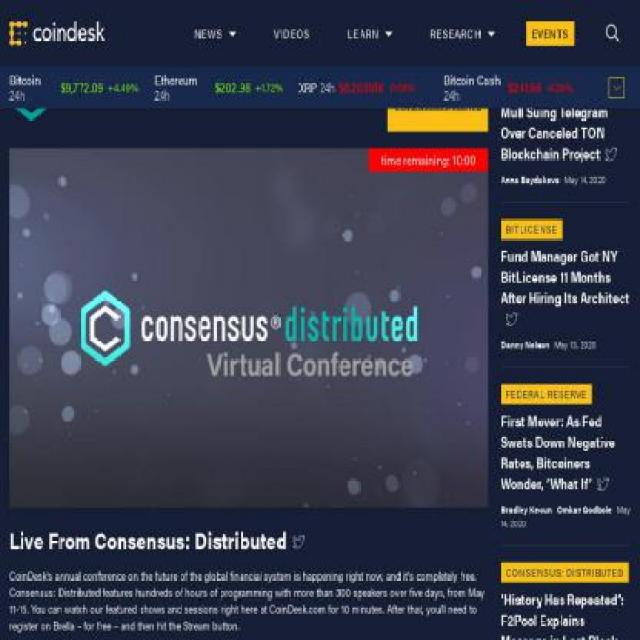button: (153, 164, 287, 344), (298, 164, 432, 344), (9, 205, 142, 386), (9, 164, 142, 344), (444, 164, 576, 344), (387, 141, 488, 228), (404, 96, 508, 164), (322, 96, 406, 164), (169, 96, 249, 164), (248, 96, 323, 164), (9, 117, 108, 145), (592, 96, 631, 164), (500, 481, 592, 501), (501, 316, 562, 336), (500, 151, 558, 171), (526, 118, 574, 142), (609, 173, 625, 195)
